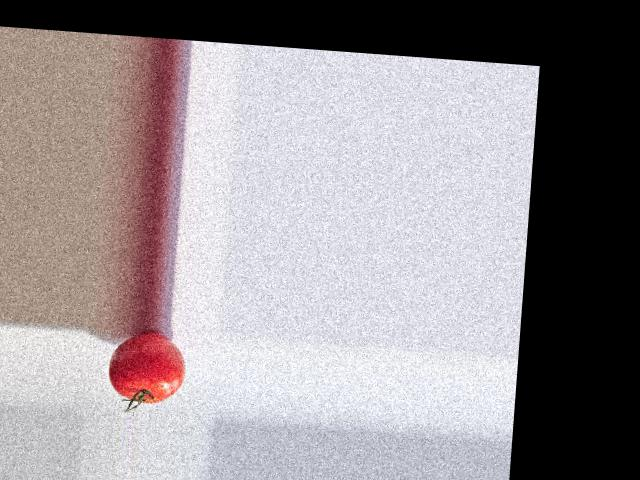tomato: (107, 328, 188, 404)
